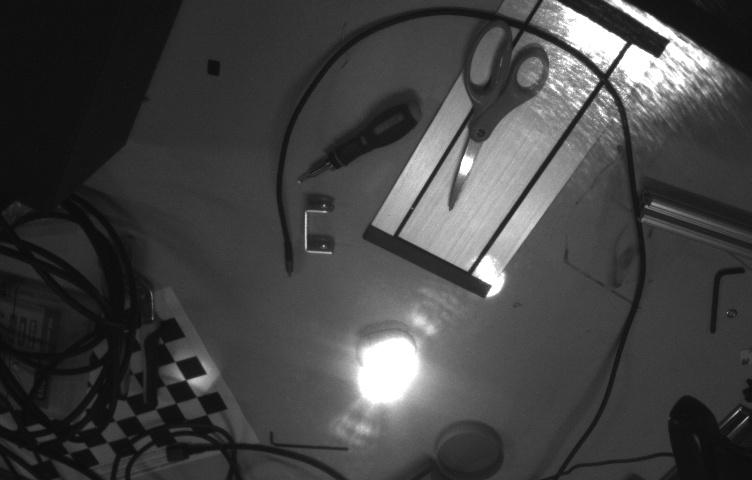Object wireless earbud charging case - Material plastic - Pdfname qzJIPQkli2jB: (357, 325, 434, 380)
